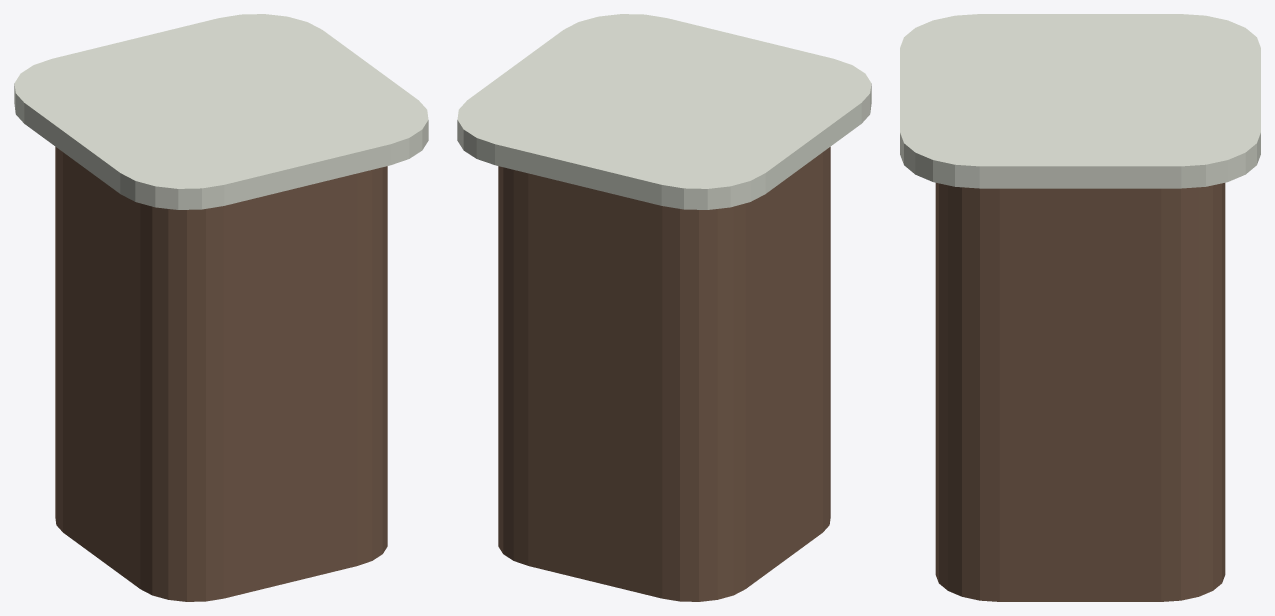
Rendered from Counter.fbx.
The picture shows the model from 3 angles, left to right: view 1: azimuth 30°, elevation 25°; view 2: azimuth 150°, elevation 25°; view 3: azimuth 270°, elevation 25°; orthographic projection. The views are drawn at different scales.
Visible parts, largest first — view 1: counter; view 2: counter; view 3: counter.
Boxes of the visible parts, <box> form: counter: <box>14,14,428,601</box>; counter: <box>457,14,871,601</box>; counter: <box>900,14,1260,601</box>.
Size of the model in its own units: 584 by 804 by 584.
